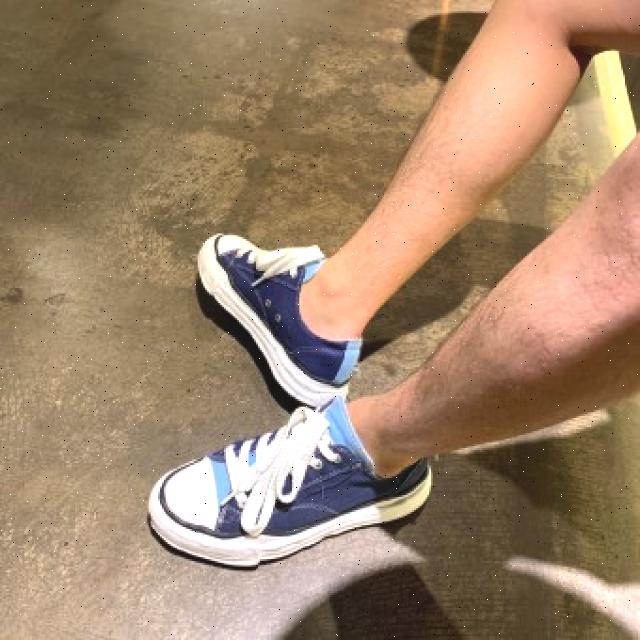no-boots: (82, 431, 444, 572), (180, 212, 360, 406)
